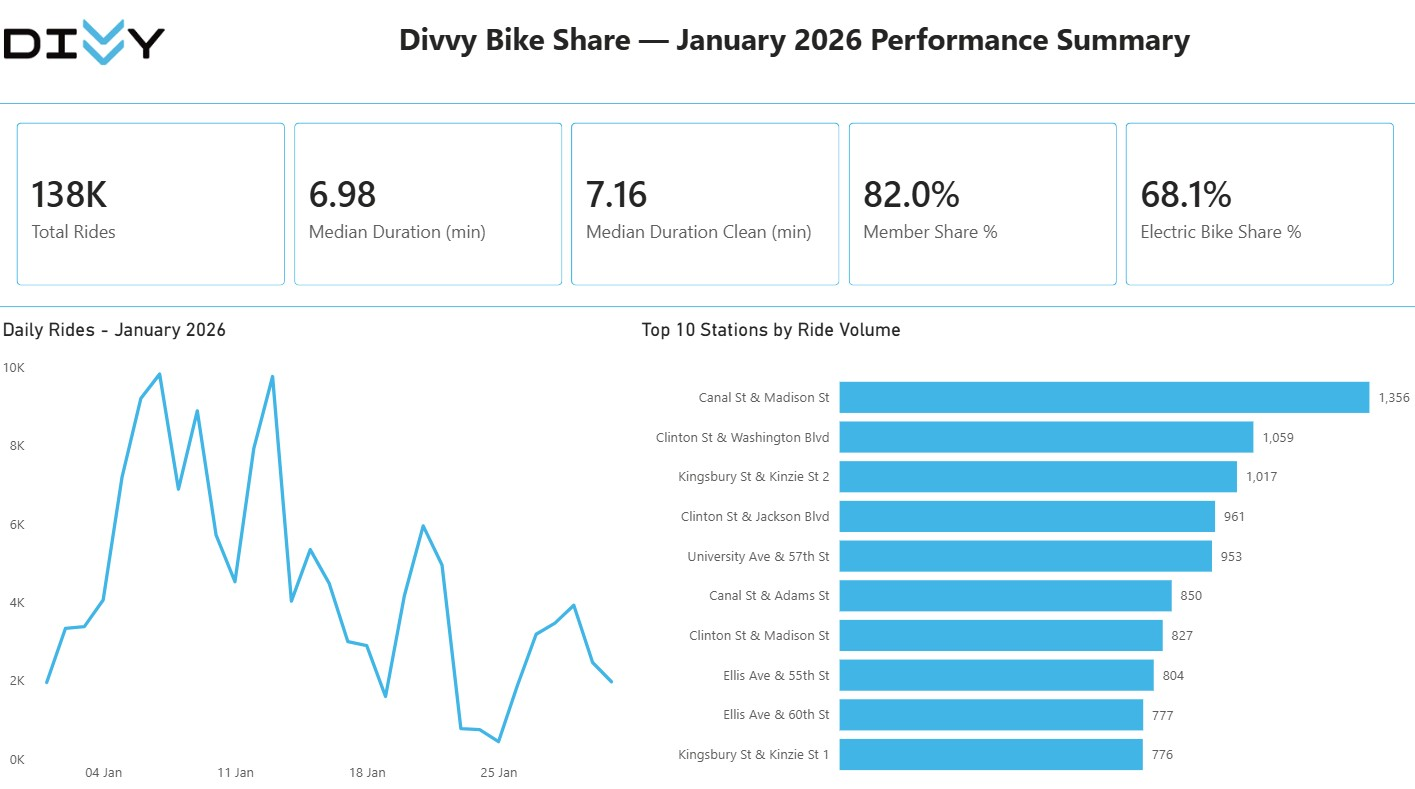

Layout of this report page (visuals, bound fields, positions):
{"tool":"powerbi","page":{"name":"Overview","canvas":[1280,720],"ordinal":0},"visuals":[{"type":"cardVisual","fields":{"Data":["Jan2026_Clean.Total Rides","Jan2026_Clean.Median Duration (min)","Jan2026_Clean.Median Duration Clean (min)","Jan2026_Clean.Member Share %","Jan2026_Clean.Electric Bike Share %"]},"box":[0,98.8,1280,183.8],"z":0},{"type":"lineChart","title":"Daily Rides - January 2026","fields":{"Category":["Jan2026_Clean.RideDate"],"Y":["Jan2026_Clean.Total Rides"]},"box":[0,292.5,576.2,427.5],"z":1000},{"type":"image","box":[0,0,157.6,88.5],"z":2000},{"type":"textbox","box":[157.6,0,1122.1,88.7],"z":3000},{"type":"barChart","title":"Top 10 Stations by Ride Volume","fields":{"Category":["Jan2026_Clean.start_station_name"],"Y":["Jan2026_Clean.Total Rides"]},"box":[576.2,292.5,703.8,427.5],"z":4000}]}

Visuals, with their boxes in screenshot pixels (x1, y1, x2, y2), scaled from the page's 1280x720 canvas onto the 1415x789 screenshot:
cardVisual - Jan2026_Clean.Total Rides x Jan2026_Clean.Median Duration (min): select_region(0, 108, 1414, 310)
"Daily Rides - January 2026" lineChart: select_region(0, 321, 637, 788)
image: select_region(0, 0, 174, 97)
textbox: select_region(174, 0, 1414, 97)
"Top 10 Stations by Ride Volume" barChart: select_region(637, 321, 1414, 788)
